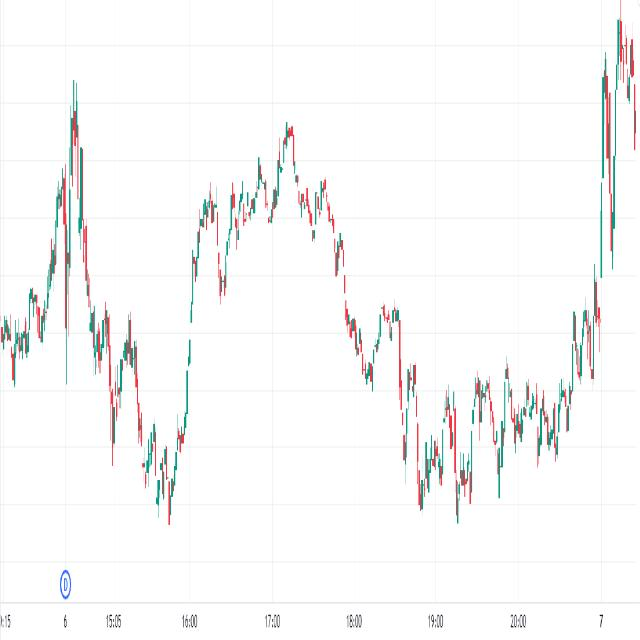Rounding-Bottom: (398, 314, 604, 550), (134, 370, 192, 530)
Rounding-Top: (182, 107, 369, 345)
